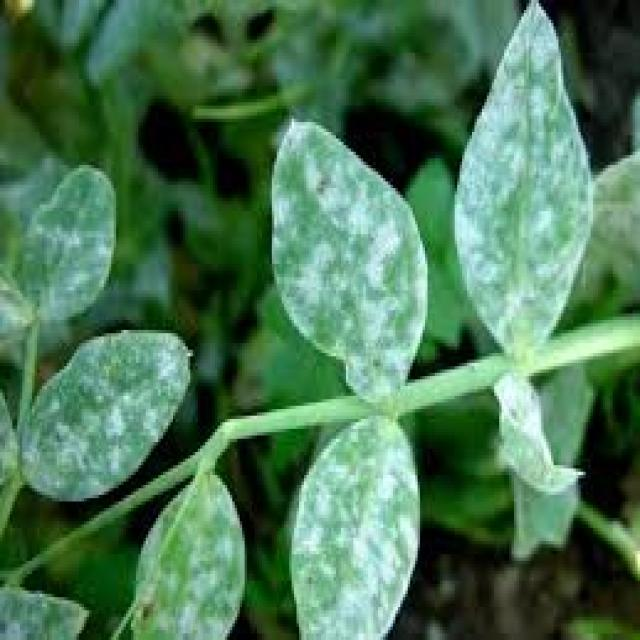powdery_mildew: (201, 98, 458, 409), (1, 148, 204, 526), (445, 14, 599, 404), (269, 424, 440, 633), (469, 370, 582, 509)
